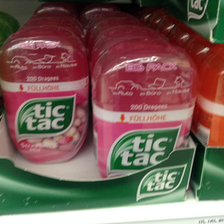candy: (83, 38, 200, 188), (3, 28, 87, 164)
